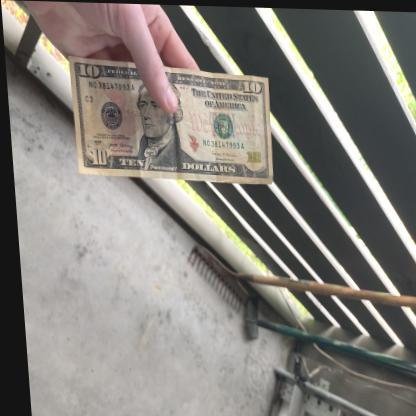ten-front: (66, 55, 270, 183)
